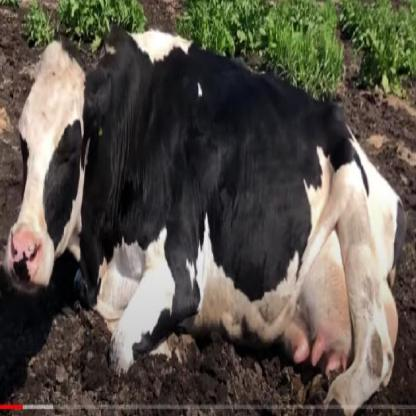cow: (6, 33, 404, 416)
